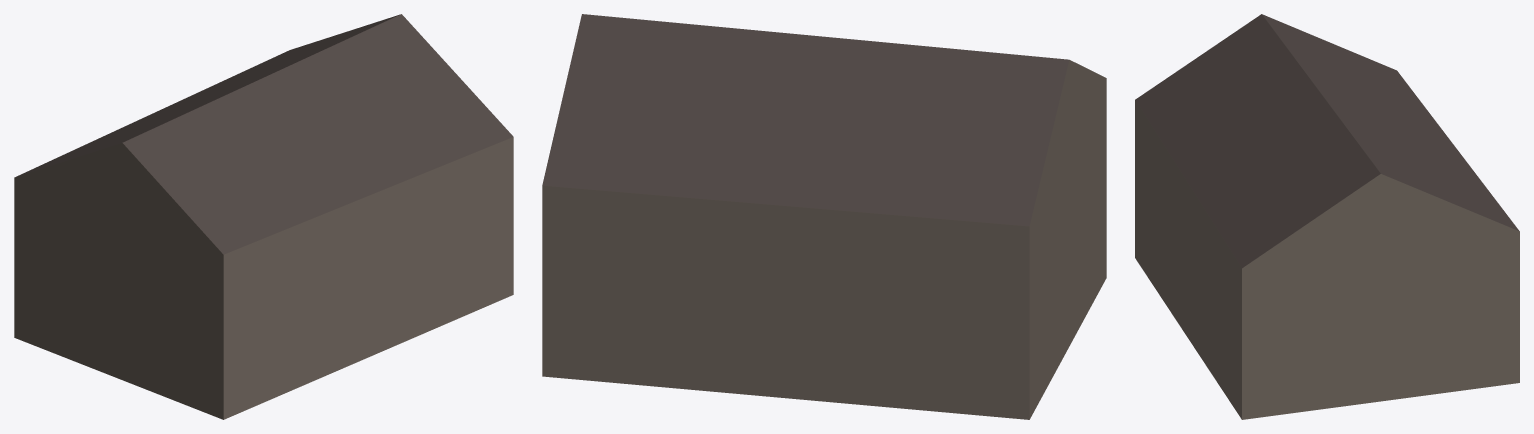
The picture shows the model from 3 angles, left to right: view 1: azimuth 30°, elevation 25°; view 2: azimuth 150°, elevation 25°; view 3: azimuth 270°, elevation 25°; orthographic projection. The views are drawn at different scales.
Parts seen in each view (by area): view 1: HP-w1516161923; view 2: HP-w1516161923; view 3: HP-w1516161923.
Part boxes in pixels (bbox=[...]): HP-w1516161923: bbox=[14, 14, 513, 419]; HP-w1516161923: bbox=[542, 14, 1106, 419]; HP-w1516161923: bbox=[1135, 14, 1519, 419].
Size of the model in its own units: 24.96 by 13.53 by 20.71.
